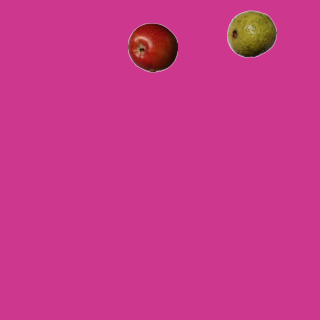Apple Braeburn: (127, 22, 177, 72)
Guava: (226, 8, 276, 58)
